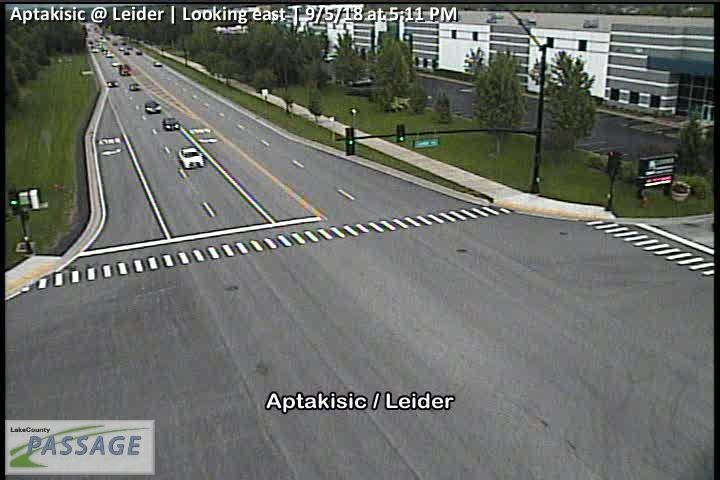Sedan: (179, 147, 203, 168), (162, 118, 180, 131), (144, 102, 161, 114), (128, 83, 141, 90), (153, 61, 163, 67), (135, 50, 142, 55), (111, 61, 118, 66), (124, 50, 129, 54)
Truck: (118, 64, 132, 76)
